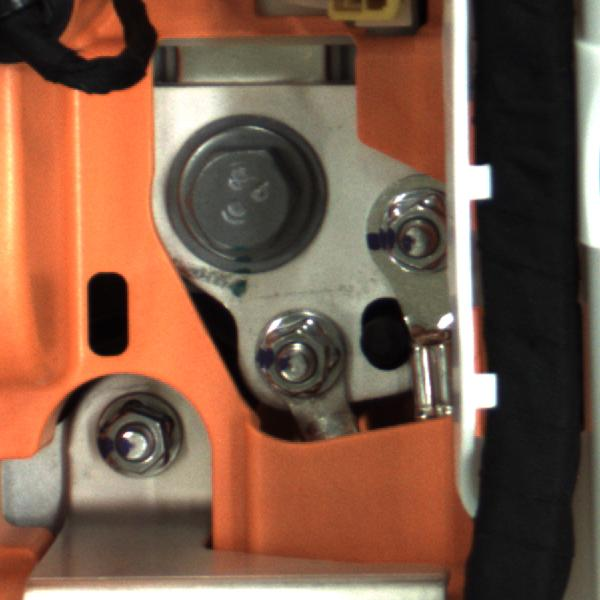nut_b: (163, 131, 325, 267)
screw_s: (246, 297, 355, 406), (89, 388, 193, 481), (376, 184, 456, 273)
